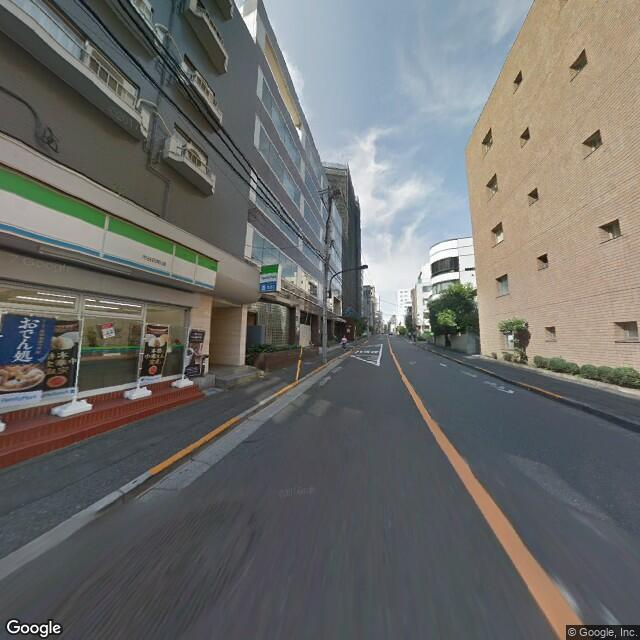family_mart: (1, 165, 218, 294), (258, 261, 280, 288)
